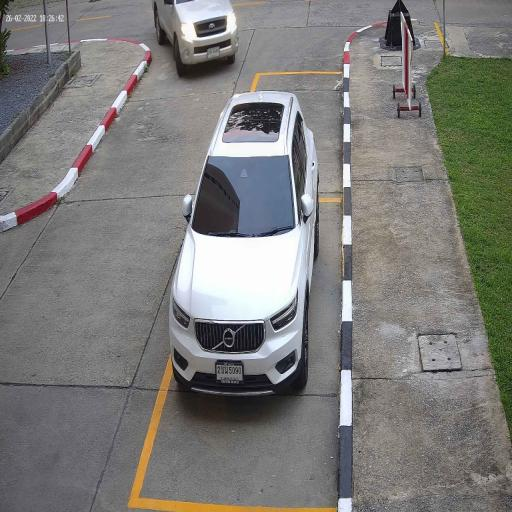car: (170, 91, 321, 400), (152, 0, 240, 76)
